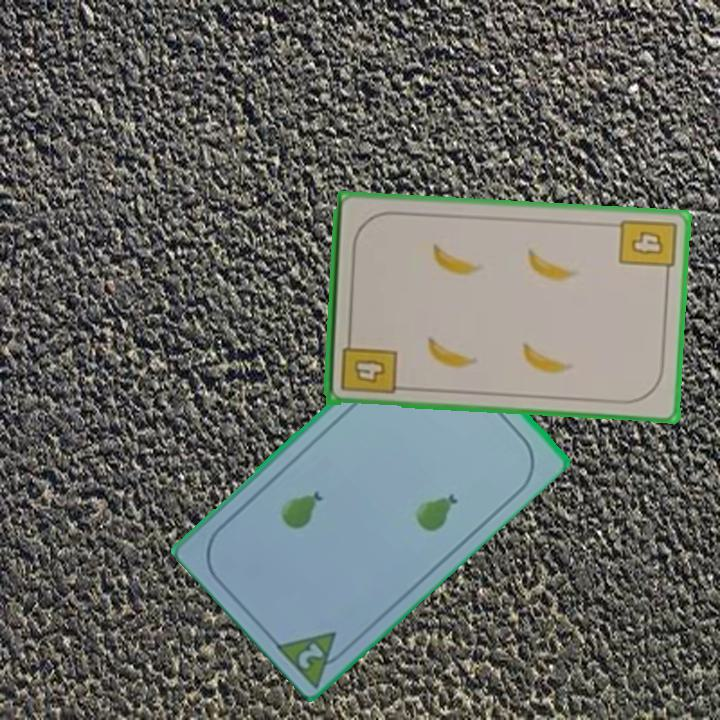2p: (270, 627, 355, 688)
4b: (615, 215, 679, 281), (336, 331, 399, 396)
